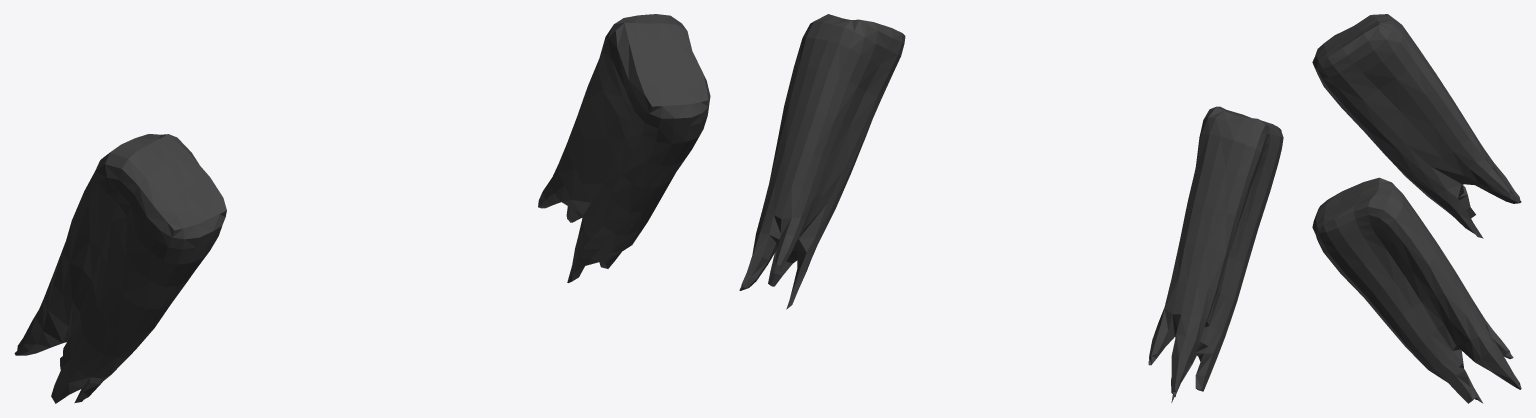
File: L_mand_P4_LO.glb
3 views of the same model, side by side, from view 1: azimuth 30°, elevation 25°; view 2: azimuth 150°, elevation 25°; view 3: azimuth 270°, elevation 25° (orthographic). The views are drawn at different scales.
Parts seen in each view (by area): view 1: L_mand_P4_LO; view 2: L_mand_P4_LO; view 3: L_mand_P4_LO.
Boxes of the visible parts, bbox=[...] form: L_mand_P4_LO: bbox=[14, 14, 710, 403]; L_mand_P4_LO: bbox=[739, 14, 1283, 402]; L_mand_P4_LO: bbox=[1312, 14, 1521, 403].
Bounding box in the file's own units: 0.00107 × 0.000562 × 0.000484.
1 material, 1 textured.
